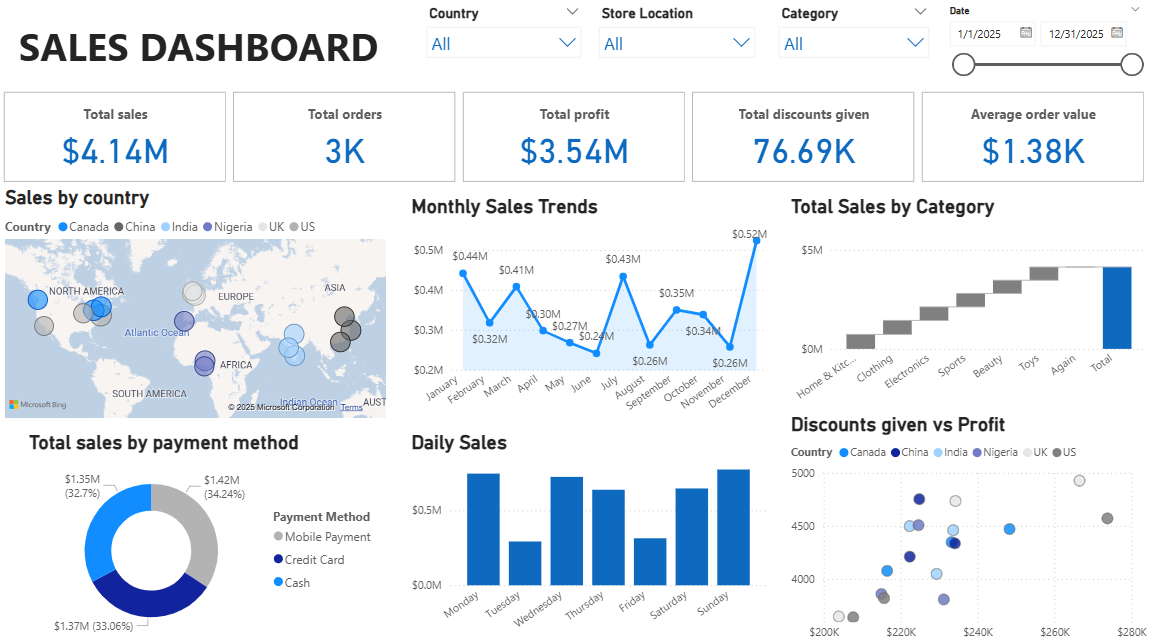

Layout of this report page (visuals, bound fields, positions):
{"tool":"powerbi","page":{"name":"Page 1","canvas":[1280,720],"ordinal":0},"visuals":[{"type":"cardVisual","fields":{"Data":["public Sales Data.Total sales","public Sales Data.Total orders","public Sales Data.Total profit","public Sales Data.Total discounts given","public Sales Data.Average order value"]},"box":[0,96.7,1280,110],"z":0},{"type":"textbox","box":[16.7,16.7,490,65],"z":1000},{"type":"slicer","fields":{"Values":["public Sales Data.Country"]},"box":[465,0,191.7,80],"z":2000},{"type":"slicer","fields":{"Values":["public Sales Data.Store Location"]},"box":[656.7,0,193.3,80],"z":3000},{"type":"slicer","fields":{"Values":["public Sales Data.Category"]},"box":[856.7,0,186.7,80],"z":4000},{"type":"slicer","fields":{"Values":["public Sales Data.Date"]},"box":[1043.3,0,236.7,96.7],"z":5000},{"type":"map","title":"Sales by country","fields":{"Category":["public Sales Data.Store Location"],"Series":["public Sales Data.Country"],"Size":["public Sales Data.Total sales"]},"box":[1.1,206.4,432.5,262.5],"z":6000},{"type":"areaChart","title":"Monthly Sales Trends ","fields":{"Y":["public Sales Data.Total sales"],"Category":["public Sales Data.Month Name"]},"box":[453.3,216.7,405,261.7],"z":7000},{"type":"columnChart","title":"Daily Sales","fields":{"Category":["public Sales Data.Day Name"],"Y":["Sum(public Sales Data.Total Amount)"]},"box":[453.3,478.3,405,241.7],"z":8000},{"type":"donutChart","title":"Total sales by payment method","fields":{"Category":["public Sales Data.Payment Method"],"Y":["public Sales Data.Total sales"]},"box":[28.3,478.3,405,241.7],"z":9000},{"type":"scatterChart","title":"Discounts given vs Profit","fields":{"Y":["public Sales Data.Total discounts given"],"X":["public Sales Data.Total sales"],"Category":["public Sales Data.Store Location"],"Series":["public Sales Data.Country"]},"box":[875,458.3,405,261.7],"z":9001},{"type":"waterfallChart","title":"Total Sales by Category","fields":{"Category":["public Sales Data.Category"],"Y":["public Sales Data.Total sales"]},"box":[875,216.7,405,241.7],"z":9002}]}

Visuals, with their boxes in screenshot pixels (x1, y1, x2, y2), scaled from the page's 1280x720 canvas onto the 1150x642 screenshot:
cardVisual - public Sales Data.Total sales x public Sales Data.Total orders: [0, 86, 1149, 184]
textbox: [15, 15, 455, 73]
slicer - public Sales Data.Country: [418, 0, 590, 71]
slicer - public Sales Data.Store Location: [590, 0, 764, 71]
slicer - public Sales Data.Category: [770, 0, 937, 71]
slicer - public Sales Data.Date: [937, 0, 1149, 86]
"Sales by country" map: [1, 184, 390, 418]
"Monthly Sales Trends " areaChart: [407, 193, 771, 427]
"Daily Sales" columnChart: [407, 426, 771, 641]
"Total sales by payment method" donutChart: [25, 426, 389, 641]
"Discounts given vs Profit" scatterChart: [786, 409, 1149, 641]
"Total Sales by Category" waterfallChart: [786, 193, 1149, 409]
